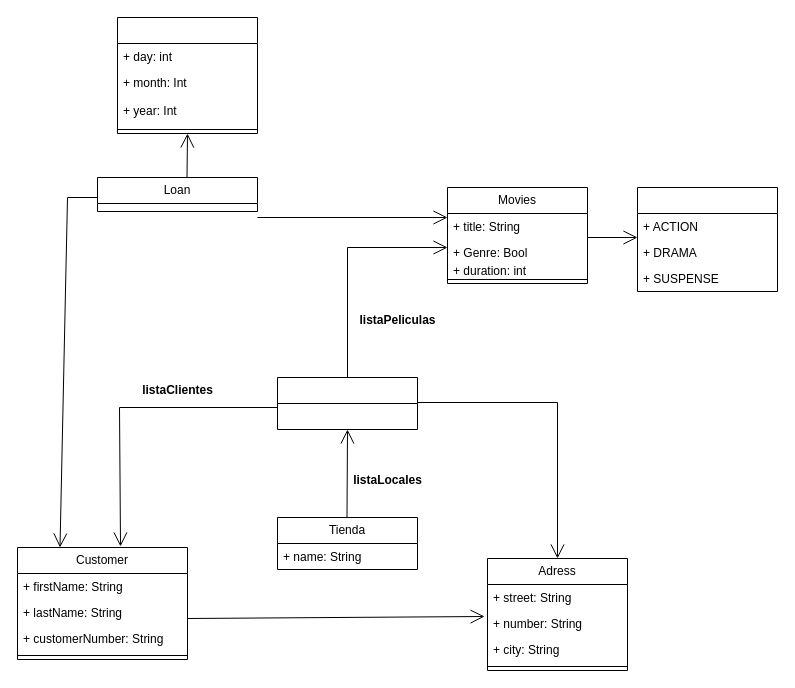
Image size: 795x688. Some labels were removed from this diagram. The shapes that lost their labels are listed below. From the top down, each one's box as (x1, y1, x2, y2) in pixels, then its label:
(116, 16, 258, 134): Date
(636, 186, 778, 292): Genre
(276, 376, 418, 430): Local
